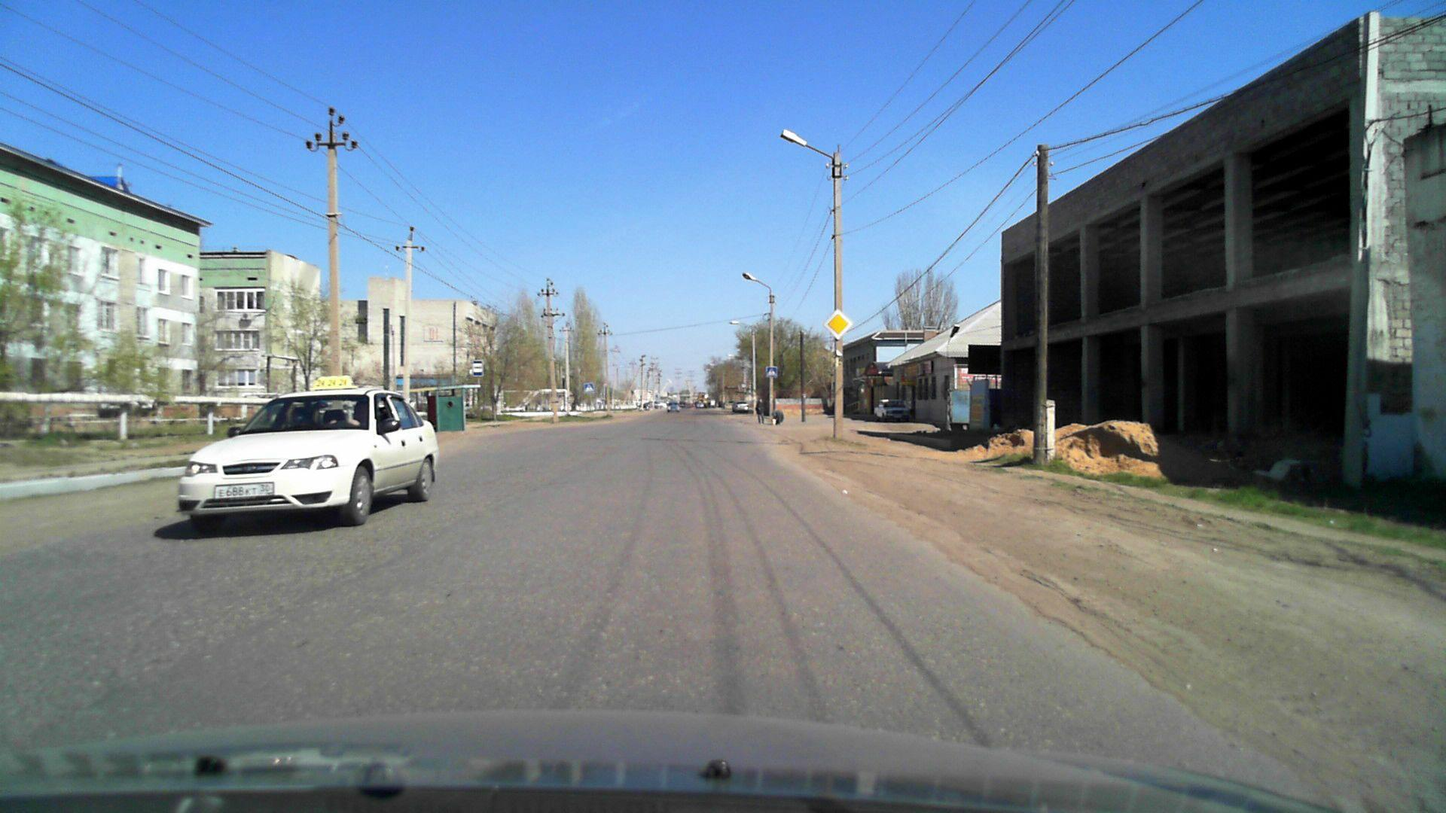road_sign: (822, 307, 855, 342), (472, 358, 485, 376)
